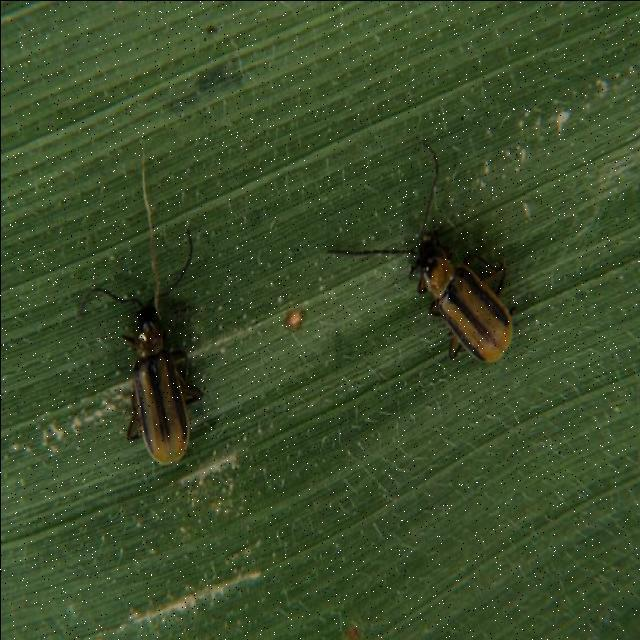trips: (326, 160, 532, 378), (94, 229, 213, 470)
